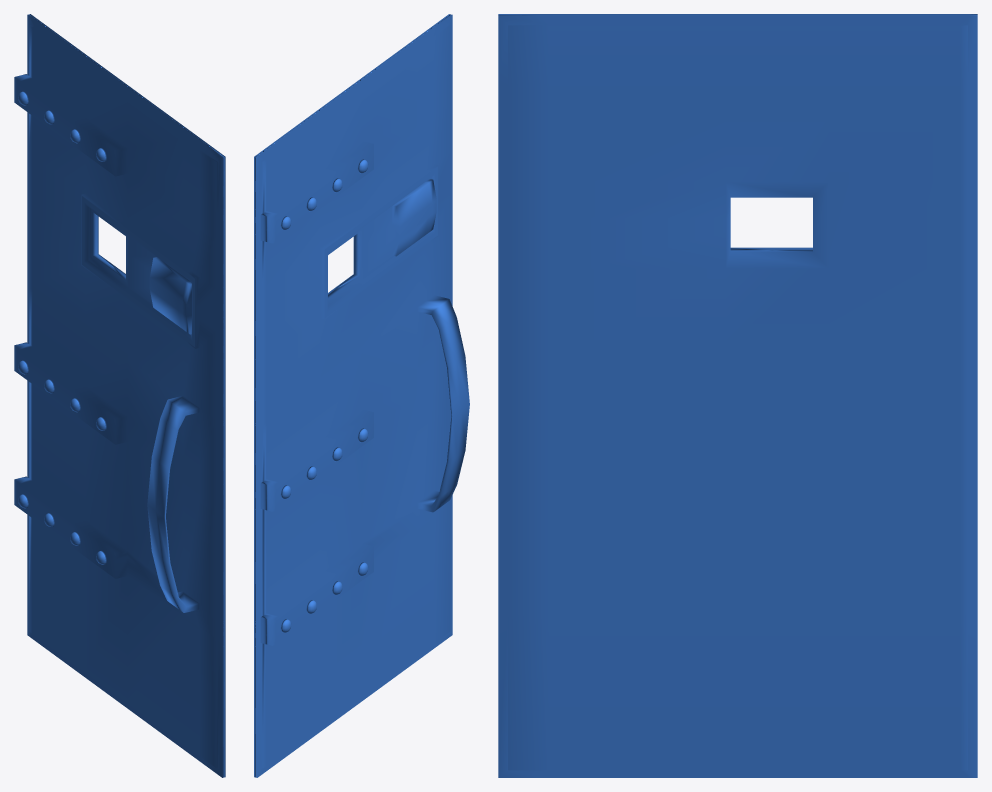
The model's file is porte_finale.fbx.
3 renders of one model, left to right at view 1: azimuth 30°, elevation 25°; view 2: azimuth 150°, elevation 25°; view 3: azimuth 270°, elevation 25°, orthographic. The views are drawn at different scales.
Parts seen in each view (by area): view 1: porte_finale; view 2: porte_finale; view 3: porte_finale.
Part boxes in pixels (x1,y1,x2,y2): porte_finale: (14, 14, 225, 777); porte_finale: (254, 14, 469, 777); porte_finale: (498, 14, 977, 777).
Size of the model in its own units: 222 by 3045 by 1735.
